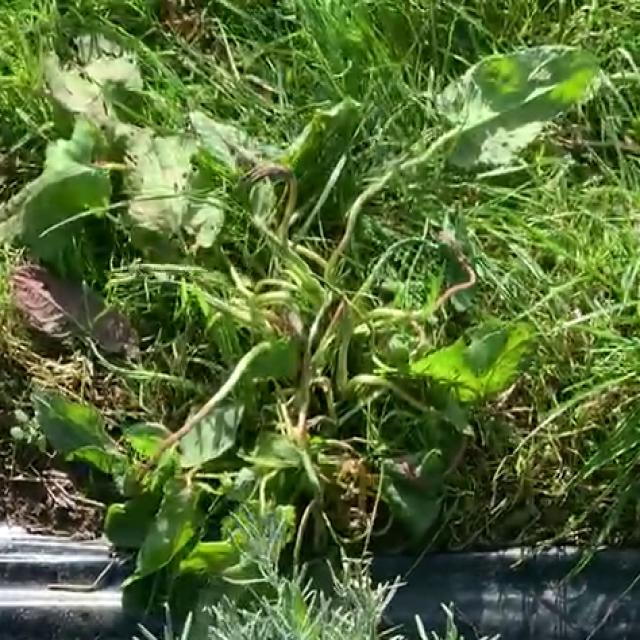organic waste: (15, 28, 607, 603)
